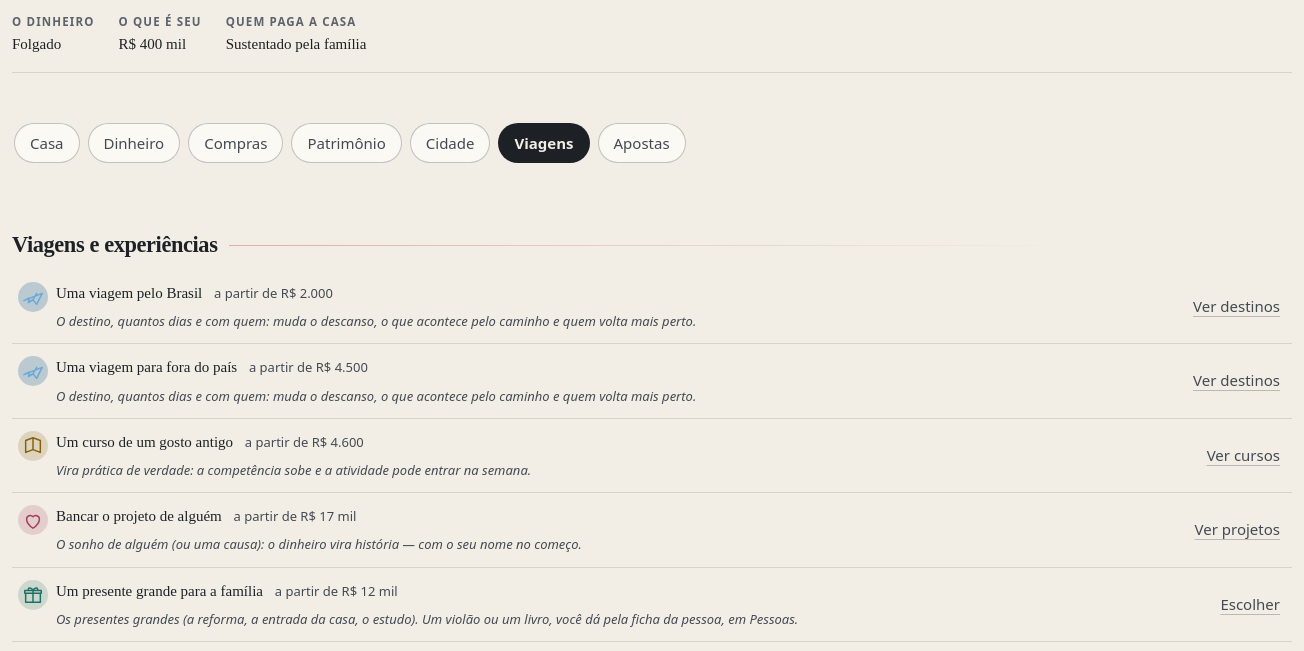
Test case: Viagem pelo Brasil: região → destino → duração › a região mostra só os seus destinos; nada de duração antes do destino
Click the button "Ver destinos" in the row of "Uma viagem pelo Brasil". click: (1236, 307)
box: [1181,285,1292,329]
(page scrolled)
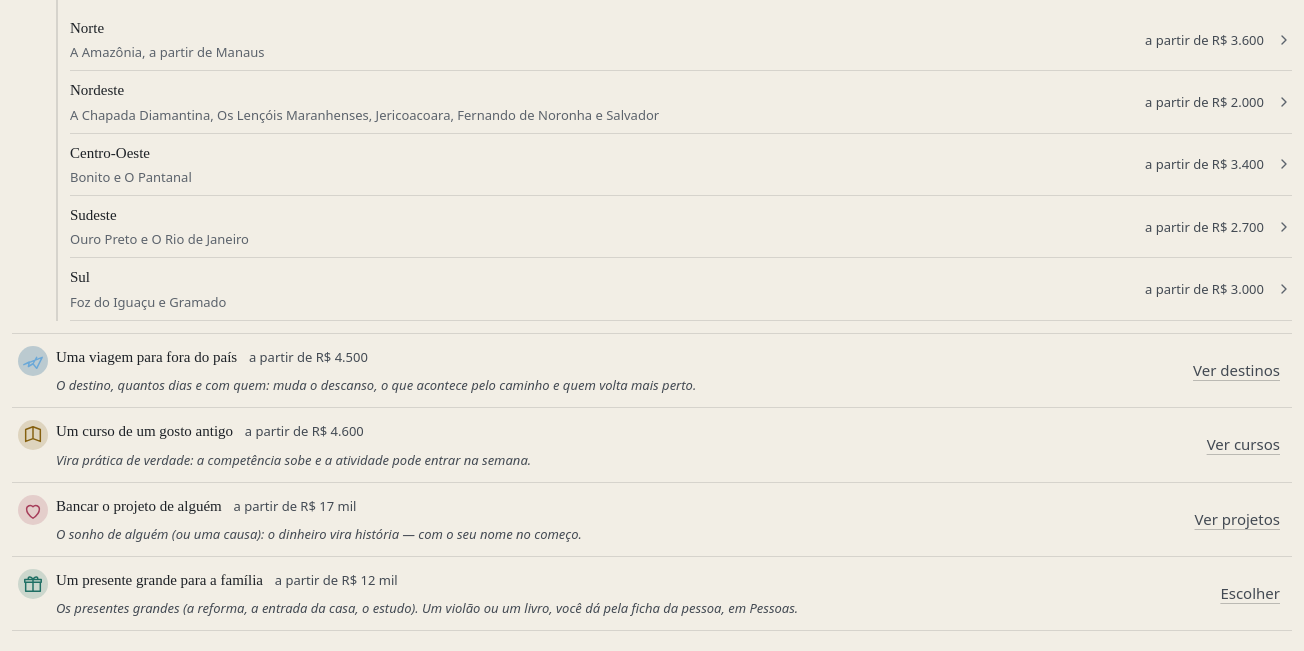
Click the button "Sul Foz do Iguaçu e Gramado a partir de R$ 3.000". click: (148, 302)
box: [70,258,1292,321]
(page scrolled)
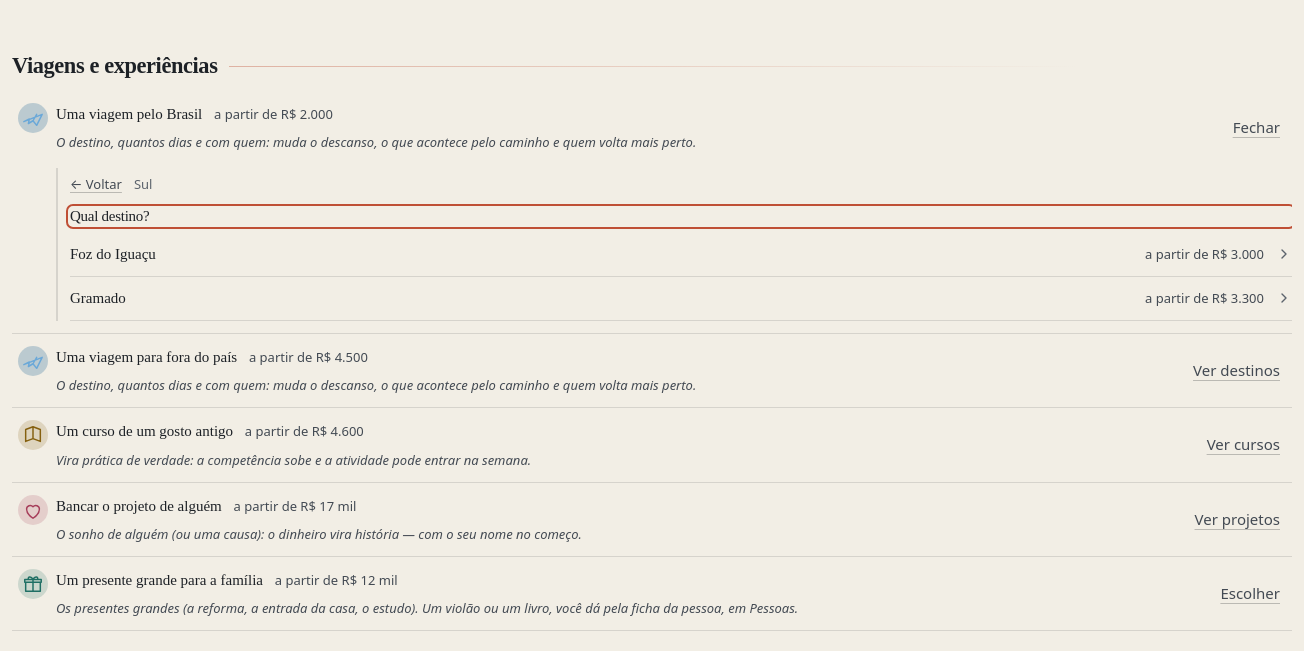
Result: the button "Foz do Iguaçu a partir de R$ 3.000" is shown at [70,233,1292,277]
Result: the button "Gramado a partir de R$ 3.300" is shown
Result: the button "Bonito e O Pantanal" is gone
Click the button "Gramado a partir de R$ 3.300". click: (98, 298)
box: [70,277,1292,321]
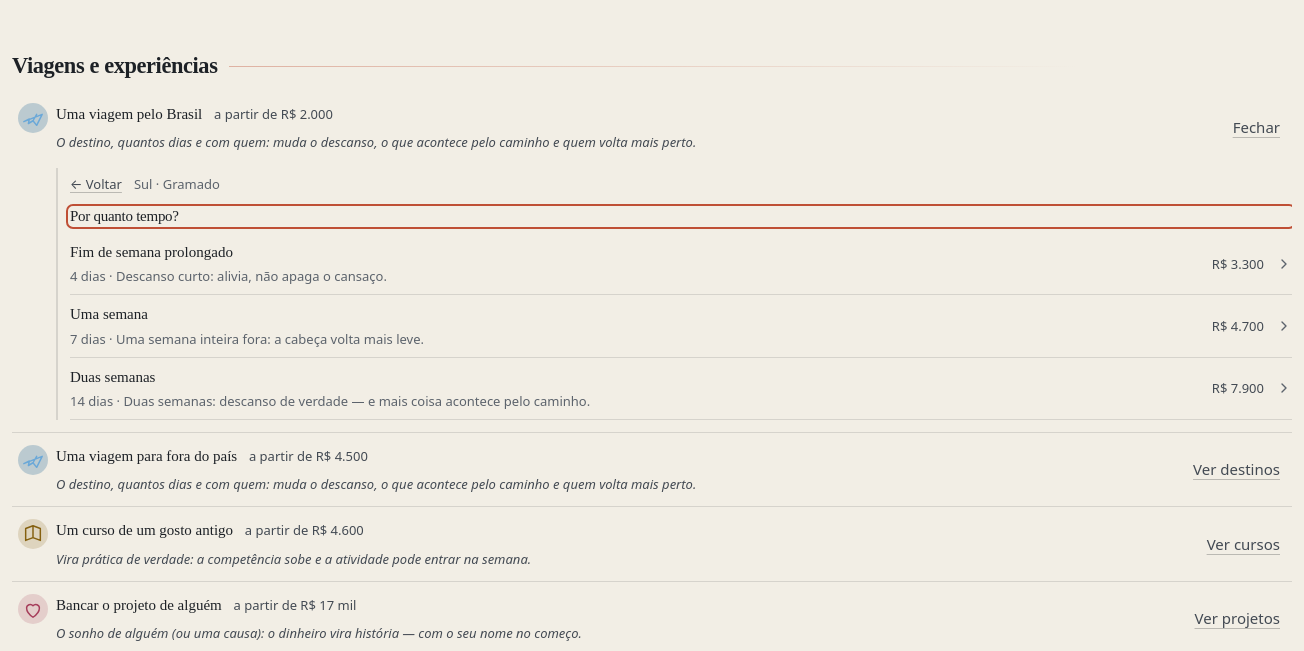
Result: the number of buttons "dias" is 3 at [70,233,1292,295]; [70,295,1292,358]; [70,358,1292,420]
